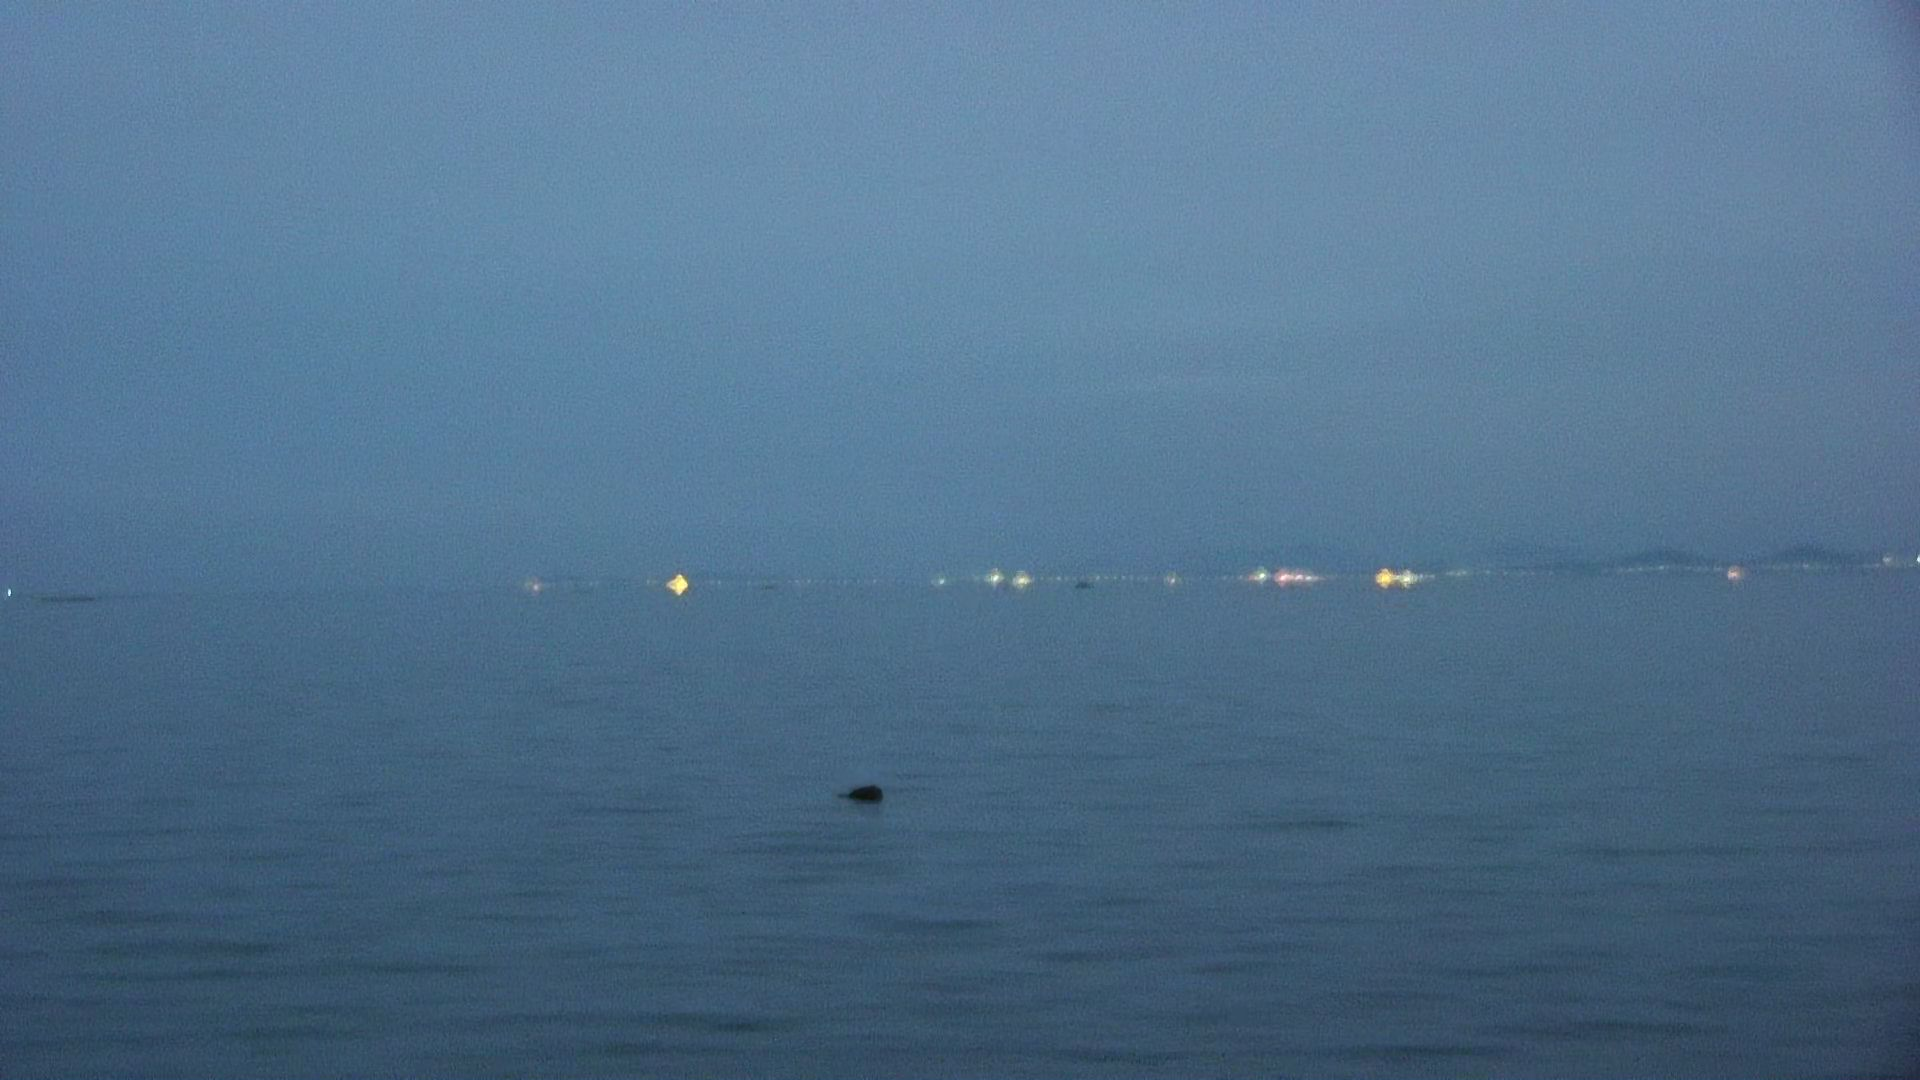rubbish: (832, 781, 902, 812)
